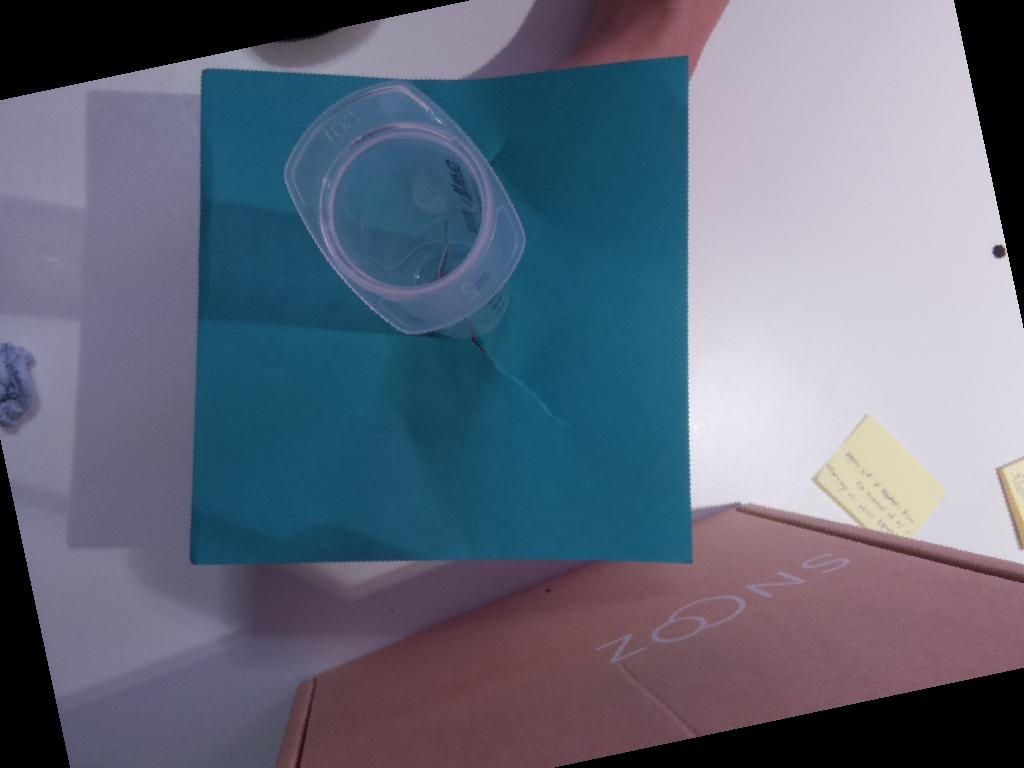clean: (281, 80, 529, 336)
